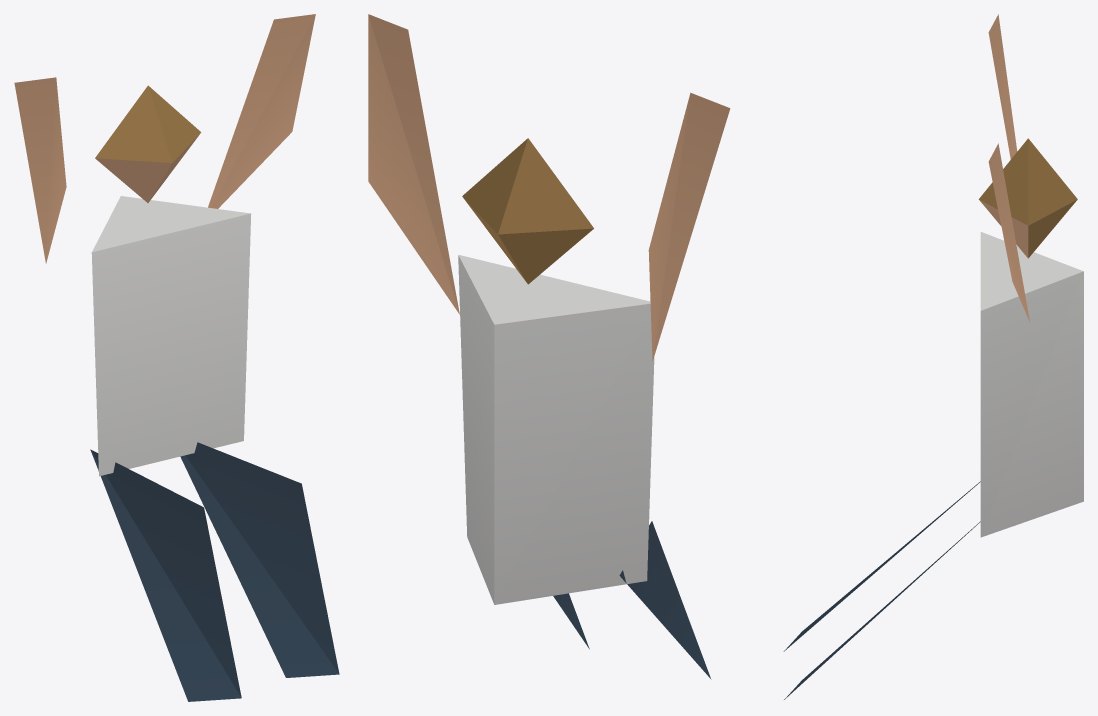
Rendered from fan-05.glb.
The picture shows the model from 3 angles, left to right: view 1: azimuth 30°, elevation 25°; view 2: azimuth 150°, elevation 25°; view 3: azimuth 270°, elevation 25°; orthographic projection. The views are drawn at different scales.
Parts seen in each view (by area): view 1: fan-05; view 2: fan-05; view 3: fan-05.
Part boxes in pixels (bbox=[...]): fan-05: bbox=[14, 14, 339, 701]; fan-05: bbox=[368, 14, 730, 679]; fan-05: bbox=[783, 14, 1083, 699].
Bounding box in the file's own units: 0.88 × 1.61 × 0.76.
